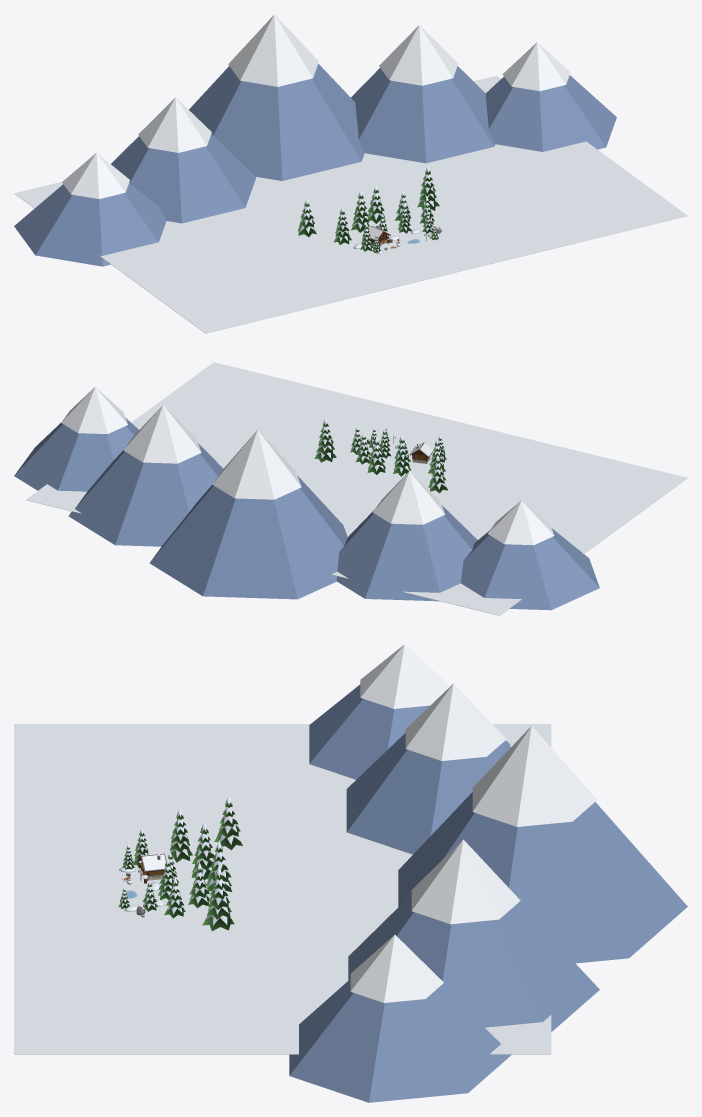
The model's file is winter.glb.
3 views of the same model, one above another, from view 1: azimuth 30°, elevation 25°; view 2: azimuth 150°, elevation 25°; view 3: azimuth 270°, elevation 25° (orthographic). The views are drawn at different scales.
Visible parts, largest first — view 1: Snow, Mountain1, Mountain2, Mountain3, Mountain0, Mountain4, MountainCap1, MountainCap2, MountainCap0, MountainCap4, MountainCap3, Pine9; view 2: Snow, Mountain1, Mountain0, Mountain2, Mountain3, Mountain4, MountainCap1, MountainCap2, MountainCap0, MountainCap4, MountainCap3, Pine9 (+3 smaller); view 3: Snow, Mountain1, Mountain4, Mountain2, Mountain0, MountainCap1, Mountain3, MountainCap2, MountainCap0, MountainCap4, MountainCap3, Pine9 (+3 smaller).
Part boxes in pixels (bbox=[...]): Snow: bbox=[14, 75, 687, 333]; Mountain1: bbox=[189, 64, 364, 180]; Mountain2: bbox=[351, 66, 495, 163]; Mountain3: bbox=[14, 182, 166, 266]; Mountain0: bbox=[111, 134, 256, 223]; Mountain4: bbox=[485, 75, 616, 151]; MountainCap1: bbox=[228, 14, 318, 86]; MountainCap2: bbox=[379, 25, 458, 85]; MountainCap0: bbox=[138, 97, 211, 152]; MountainCap4: bbox=[502, 42, 570, 91]; MountainCap3: bbox=[62, 152, 129, 198]; Pine9: bbox=[417, 164, 439, 210]; Snow: bbox=[26, 362, 687, 615]; Mountain1: bbox=[149, 475, 347, 599]; Mountain0: bbox=[336, 505, 477, 601]; Mountain2: bbox=[68, 443, 223, 546]; Mountain3: bbox=[461, 528, 599, 610]; Mountain4: bbox=[14, 418, 138, 491]; MountainCap1: bbox=[212, 429, 301, 499]; MountainCap2: bbox=[123, 405, 201, 463]; MountainCap0: bbox=[372, 471, 444, 524]; MountainCap4: bbox=[61, 387, 127, 433]; MountainCap3: bbox=[487, 500, 554, 545]; Pine9: bbox=[314, 417, 336, 462]; Snow: bbox=[14, 724, 551, 1054]; Mountain1: bbox=[398, 792, 687, 963]; Mountain4: bbox=[289, 979, 511, 1102]; Mountain2: bbox=[348, 895, 599, 1031]; Mountain0: bbox=[346, 733, 510, 854]; MountainCap1: bbox=[472, 726, 596, 826]; Mountain3: bbox=[309, 684, 510, 779]; MountainCap2: bbox=[411, 839, 520, 924]; MountainCap0: bbox=[405, 683, 506, 760]; MountainCap4: bbox=[350, 935, 443, 1002]; MountainCap3: bbox=[360, 644, 450, 708]; Pine9: bbox=[202, 865, 234, 931].
Size of the model in its own units: 192 by 41.2 by 138.
